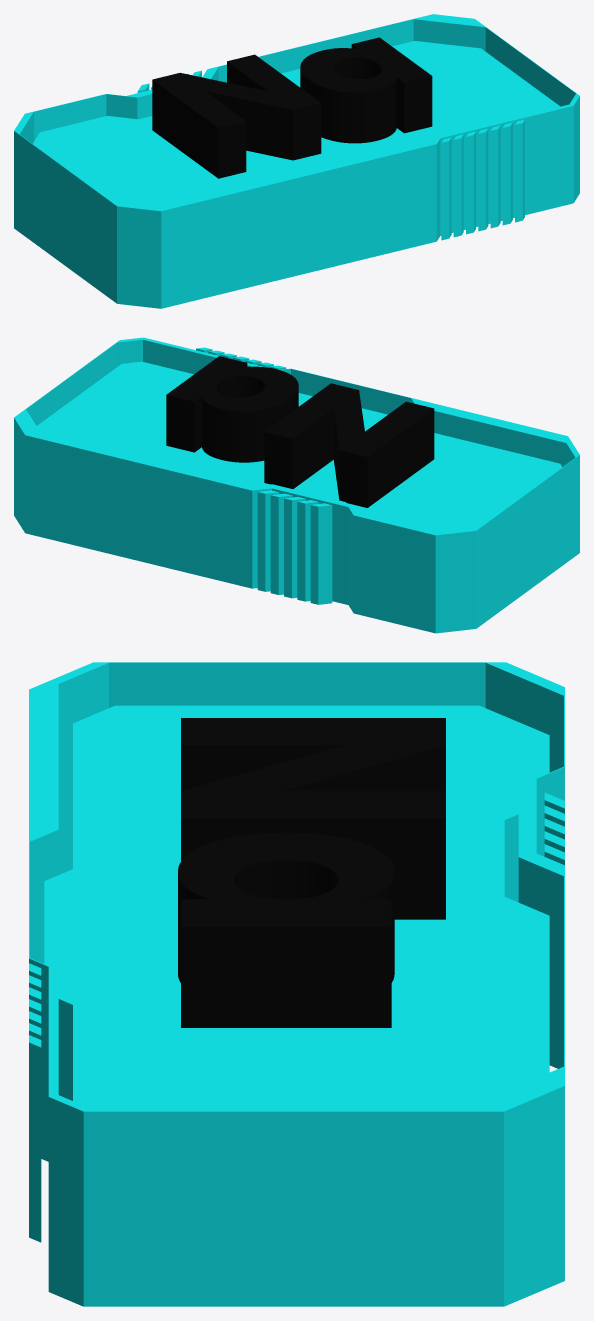
The model's file is 2.HurufNa.glb.
The picture shows the model from 3 angles, top to bottom: view 1: azimuth 30°, elevation 25°; view 2: azimuth 150°, elevation 25°; view 3: azimuth 270°, elevation 25°; orthographic projection. The views are drawn at different scales.
Visible parts, largest first — view 1: Curve.040, Curve.034, Curve.048, Curve.049, Curve.041, Curve.044, Curve.045, Curve.046, Curve.042, Curve.047, Curve.043; view 2: Curve.040, Curve.034, Curve.048, Curve.049, Curve.039, Curve.038, Curve.035, Curve.036, Curve.037; view 3: Curve.040, Curve.034, Curve.049, Curve.048, Curve.047.
Part boxes in pixels (x1,y1,x2,y2): Curve.040: (14, 14, 579, 308); Curve.034: (33, 41, 559, 207); Curve.048: (152, 54, 321, 178); Curve.049: (300, 37, 432, 143); Curve.041: (441, 137, 451, 240); Curve.044: (478, 128, 488, 231); Curve.045: (490, 125, 500, 228); Curve.046: (502, 122, 512, 225); Curve.042: (453, 134, 463, 237); Curve.047: (515, 119, 524, 222); Curve.043: (466, 131, 475, 234); Curve.040: (14, 337, 579, 633); Curve.034: (37, 361, 561, 532); Curve.048: (264, 383, 434, 507); Curve.049: (166, 356, 298, 462); Curve.039: (310, 503, 332, 604); Curve.038: (297, 500, 319, 601); Curve.035: (257, 490, 279, 591); Curve.036: (270, 493, 292, 594); Curve.037: (284, 497, 305, 598); Curve.040: (29, 662, 564, 1306); Curve.034: (44, 705, 549, 1110); Curve.049: (178, 832, 394, 1027); Curve.048: (181, 718, 445, 919); Curve.047: (29, 1035, 41, 1242).
Bounding box in the file's own units: 0.2966 × 0.0799 × 0.1496.
